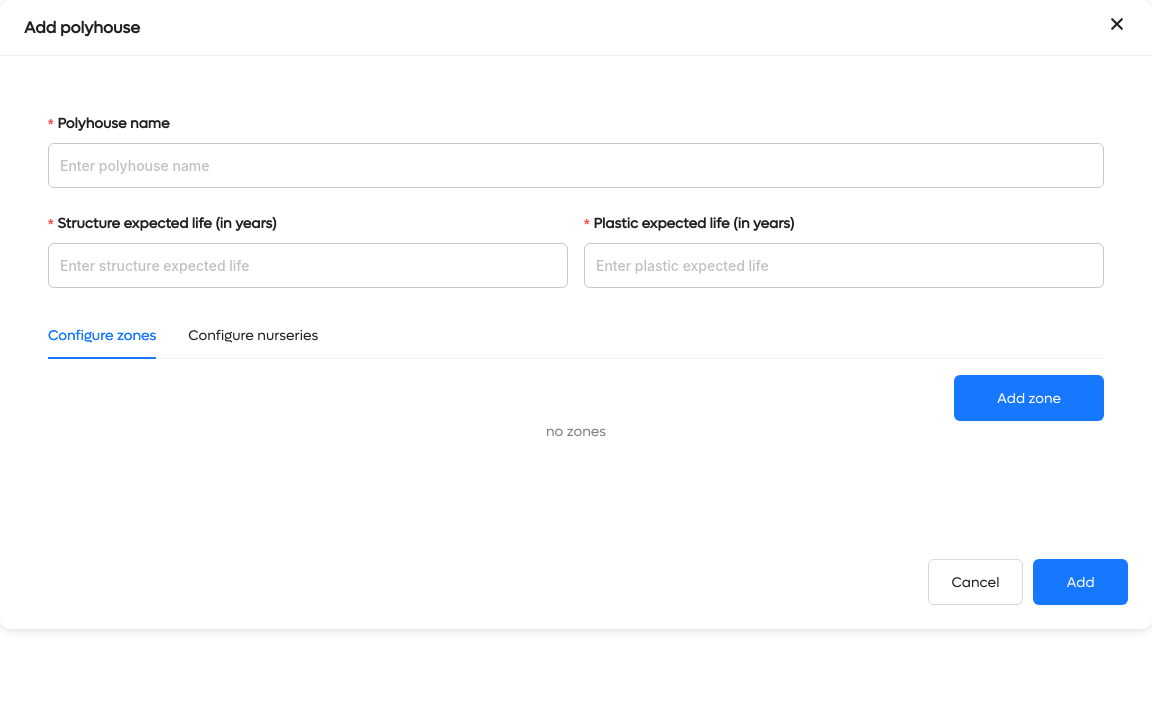
Add polyhouse page › should apply regex validation errors
Type "abc" into the field labelled "Structure expected life (in years)" at (308, 266), box [48,243,568,288]
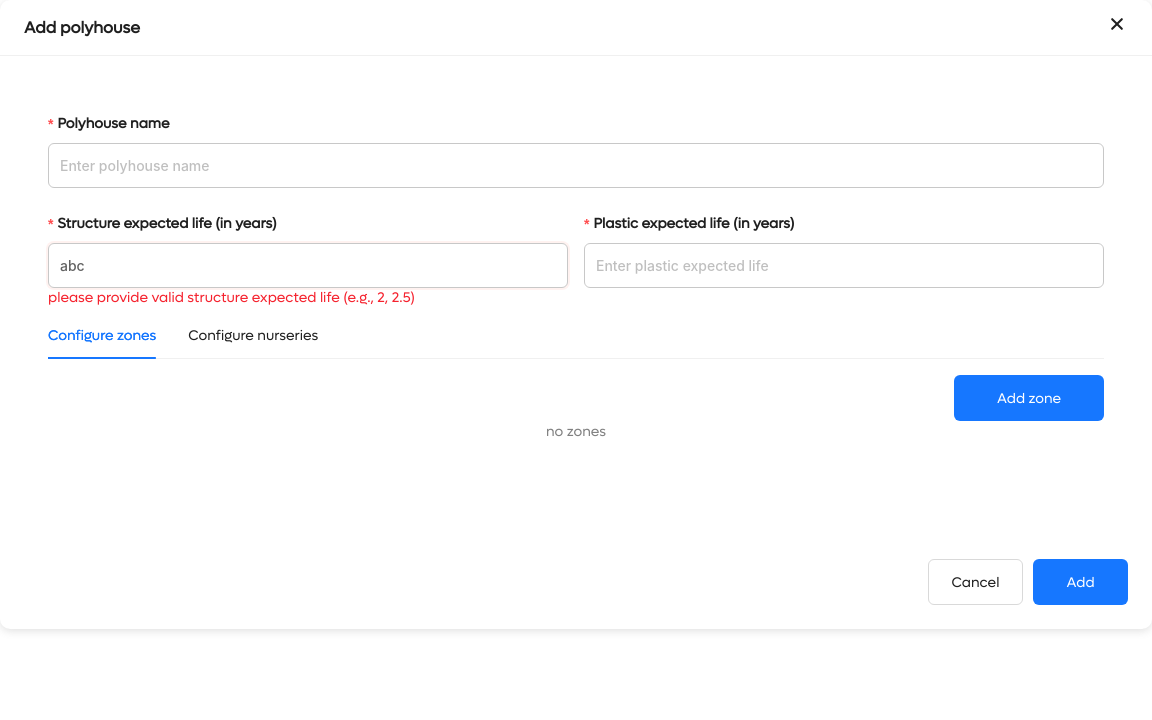
Type "xyz" into the field labelled "Plastic expected life (in years)" at (844, 266), box [584,243,1104,288]
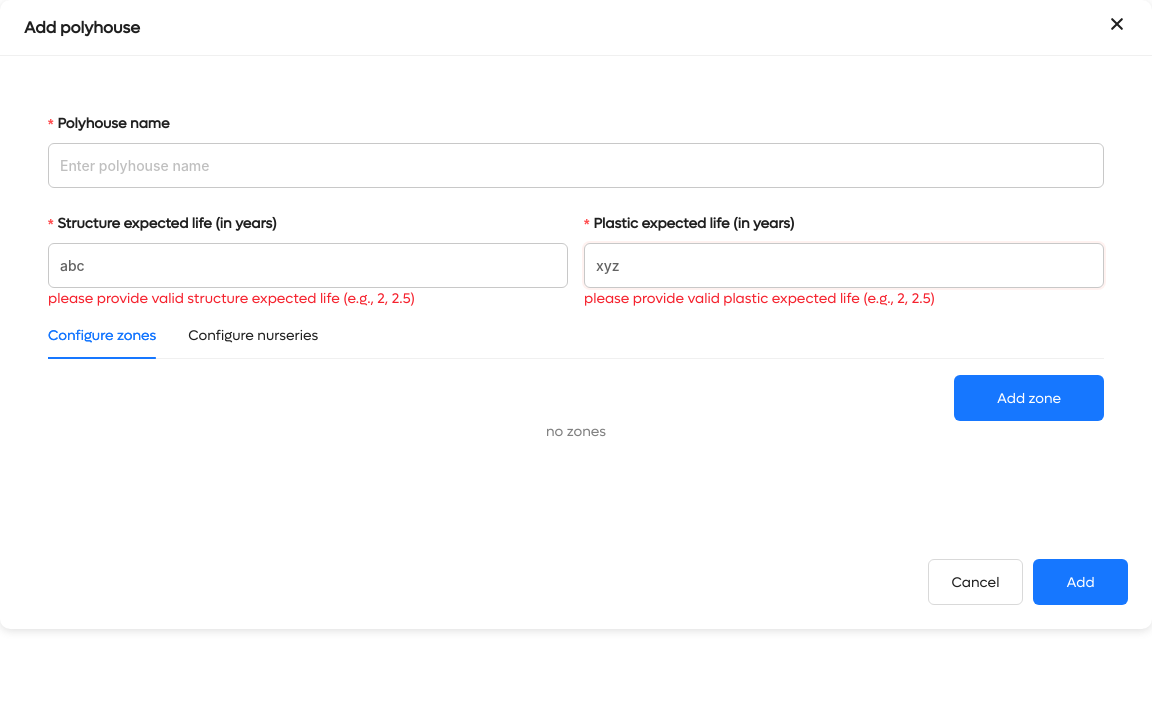
Expected: the text "please provide valid structure expected life (e.g., 2, 2.5)" is shown, [48,289,415,308]
Expected: the text "please provide valid plastic expected life (e.g., 2, 2.5)" is shown, [584,289,935,308]
